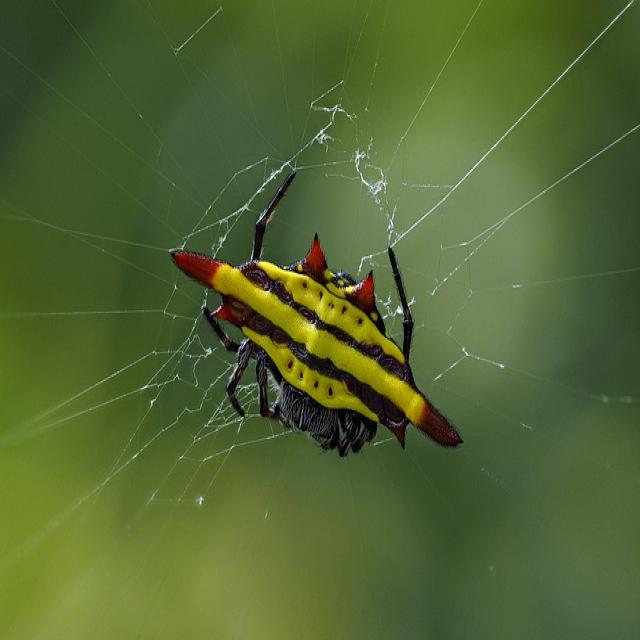spyder: (169, 183, 463, 459)
